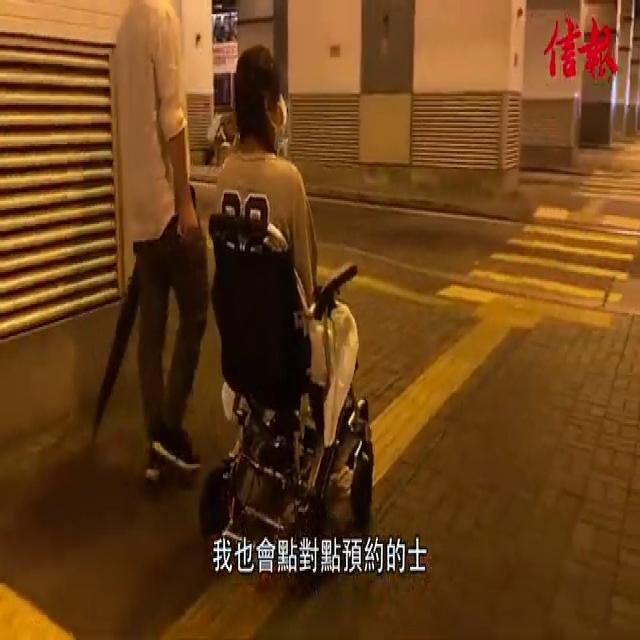wheelchairs: (196, 200, 388, 545)
